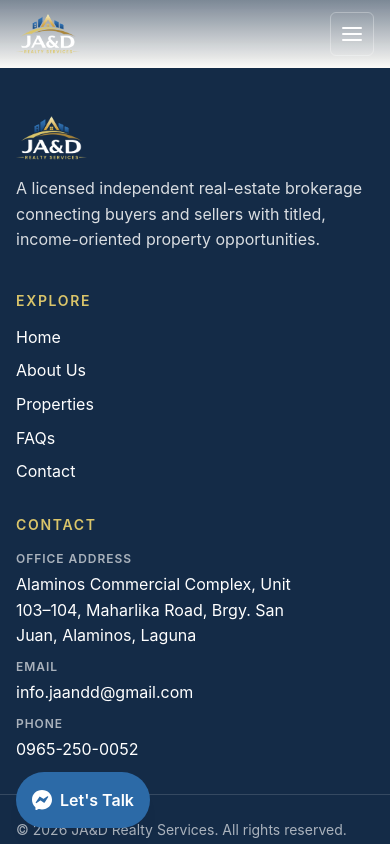
Scenario: PublicLayout › toggles the menu open and closed with matching visual and ARIA state
The width and height of the screenshot is (390, 844).
Click the button named "Open navigation".
click(352, 34)  # box [330,12,374,56]
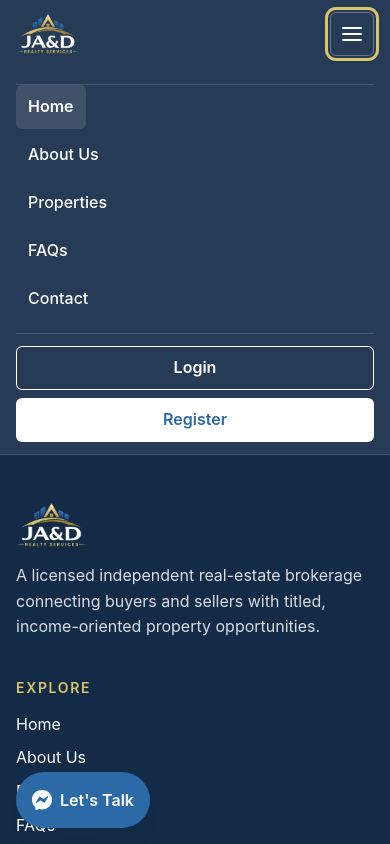
expect the button named "Close navigation" is expanded: met
expect the navigation bar named "Primary" is shown: met, box [16,72,374,442]
Click the button named "Close navigation".
click(352, 34)  # box [330,12,374,56]
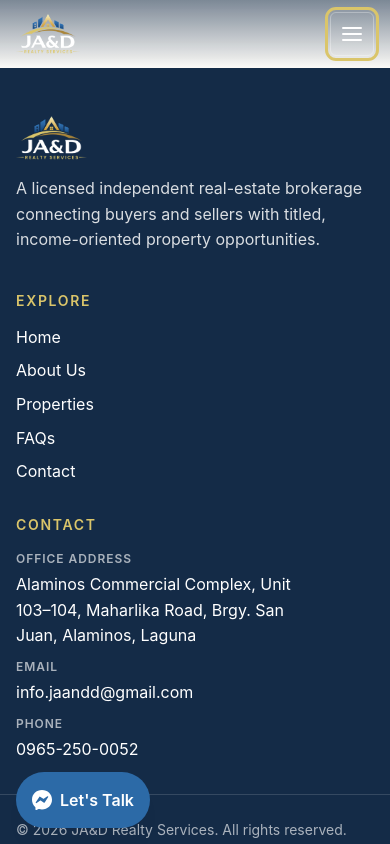
expect the button named "Open navigation" is collapsed: met, box [330,12,374,56]
